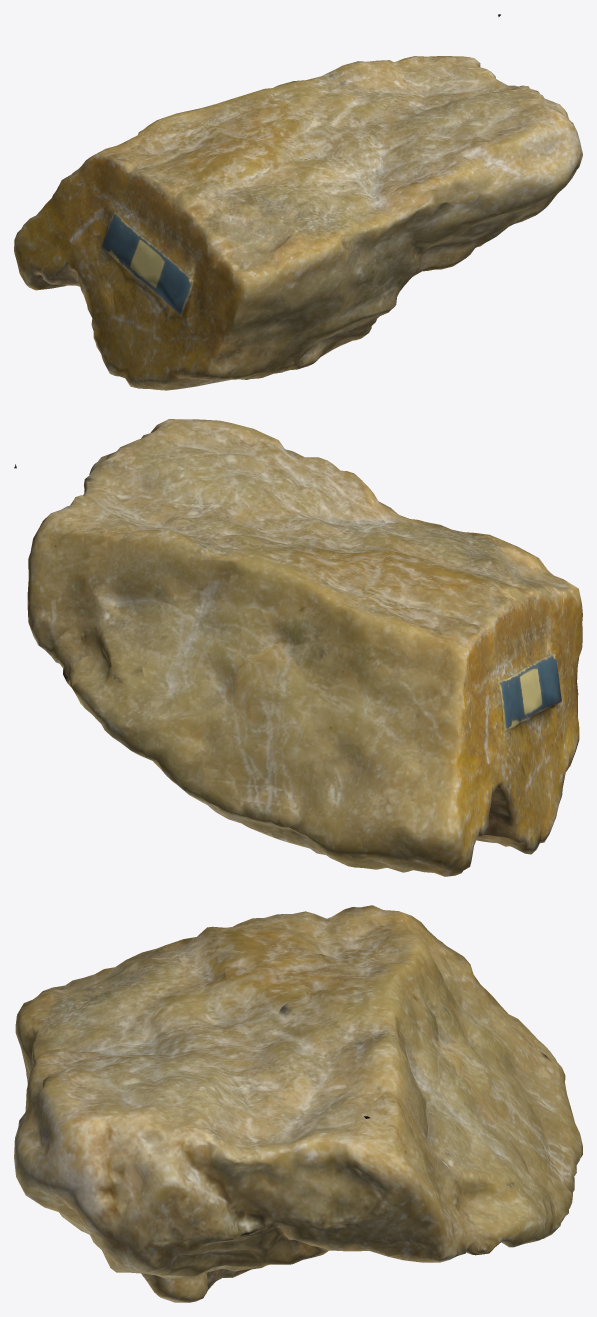
The model's file is talc.fbx.
The picture shows the model from 3 angles, top to bottom: view 1: azimuth 30°, elevation 25°; view 2: azimuth 150°, elevation 25°; view 3: azimuth 270°, elevation 25°; orthographic projection. The views are drawn at different scales.
Parts seen in each view (by area): view 1: Model; view 2: Model; view 3: Model.
Part boxes in pixels (left/top/right/bottom): Model: left=14, top=14, right=582, bottom=390; Model: left=14, top=419, right=582, bottom=876; Model: left=14, top=905, right=582, bottom=1302.
Bounding box in the file's own units: 89.96 × 50.69 × 68.72.
1 material, 1 textured.
